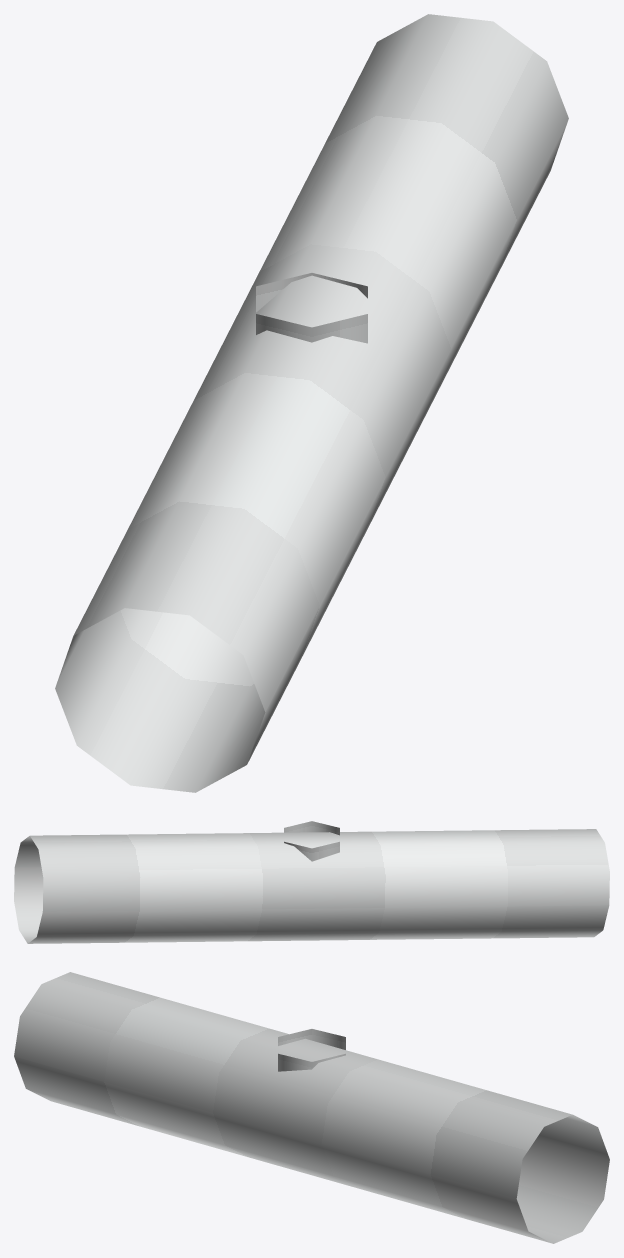
Rendered from trusssignalarm_diagonal8_c6.obj.
The picture shows the model from 3 angles, top to bottom: view 1: azimuth 30°, elevation 25°; view 2: azimuth 150°, elevation 25°; view 3: azimuth 270°, elevation 25°; orthographic projection. The views are drawn at different scales.
Visible parts, largest first — view 1: trusssignalarm_diagonal8_c6; view 2: trusssignalarm_diagonal8_c6; view 3: trusssignalarm_diagonal8_c6.
Boxes of the visible parts, <box> form: trusssignalarm_diagonal8_c6: <box>55,14,568,792</box>; trusssignalarm_diagonal8_c6: <box>14,821,609,943</box>; trusssignalarm_diagonal8_c6: <box>14,972,609,1243</box>.
Size of the model in its own units: 1.19 by 0.4013 by 1.19.
